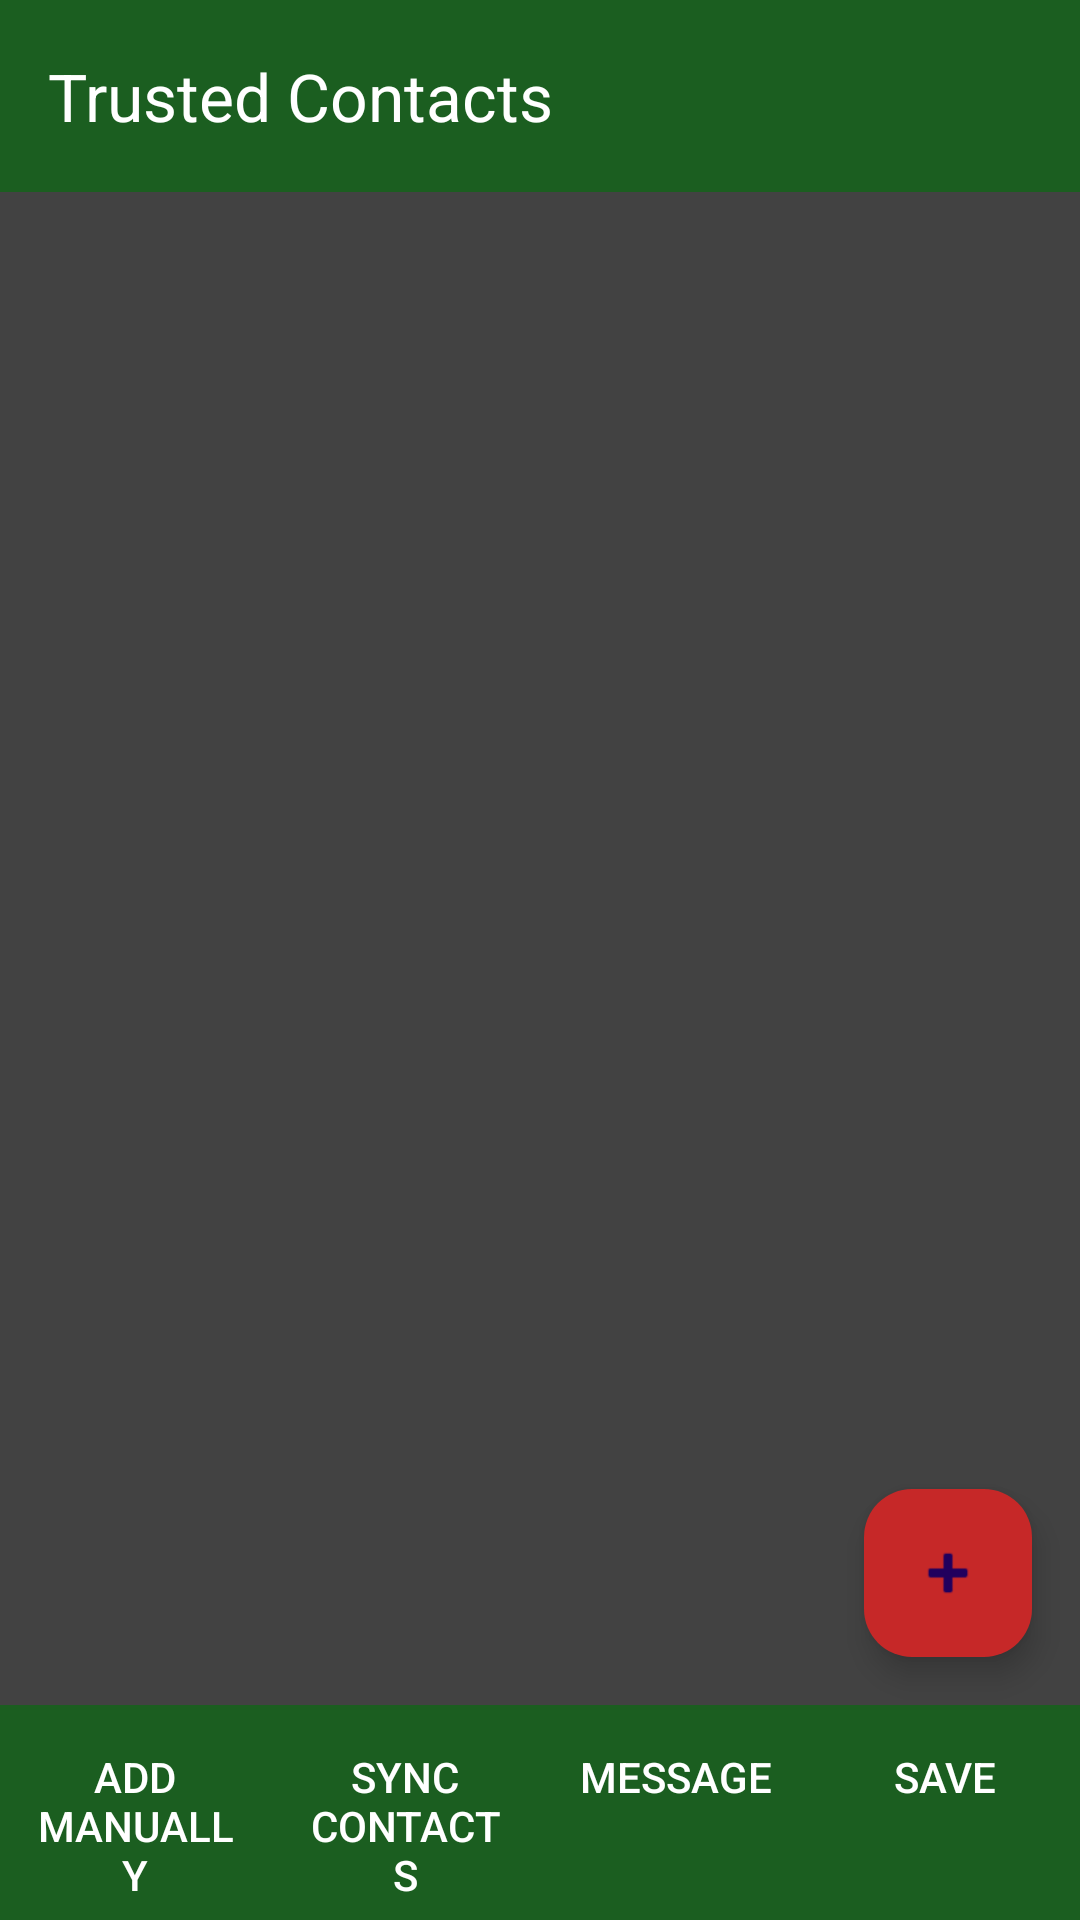

Screen size 1080px x 1920px. Icon name, then its center in pixels as (x=x, y=y):
add: (x=948, y=1573)
